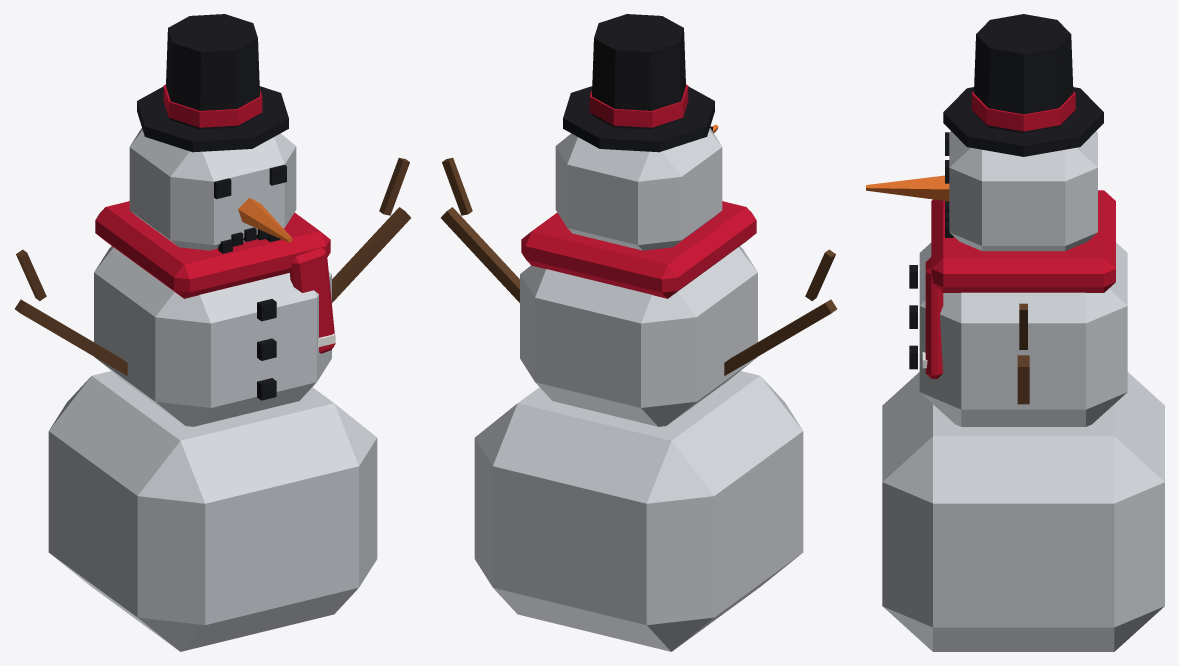
File: snowman.glb
3 views of the same model, side by side, from view 1: azimuth 30°, elevation 25°; view 2: azimuth 150°, elevation 25°; view 3: azimuth 270°, elevation 25° (orthographic). The views are drawn at different scales.
Visible parts, largest first — view 1: snowman; view 2: snowman; view 3: snowman.
Boxes of the visible parts, x1=… form: snowman: x1=15, y1=14, x2=410, y2=651; snowman: x1=441, y1=14, x2=836, y2=651; snowman: x1=866, y1=14, x2=1164, y2=651.
Size of the model in its own units: 1.55 by 2.15 by 1.
